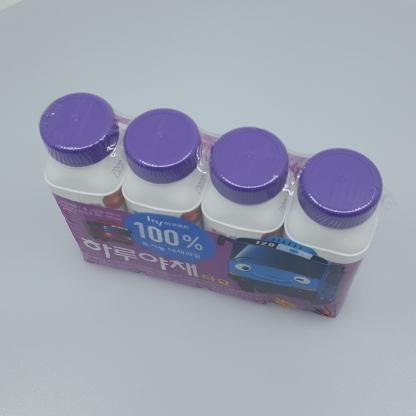-------------400ML: (36, 92, 397, 318)
